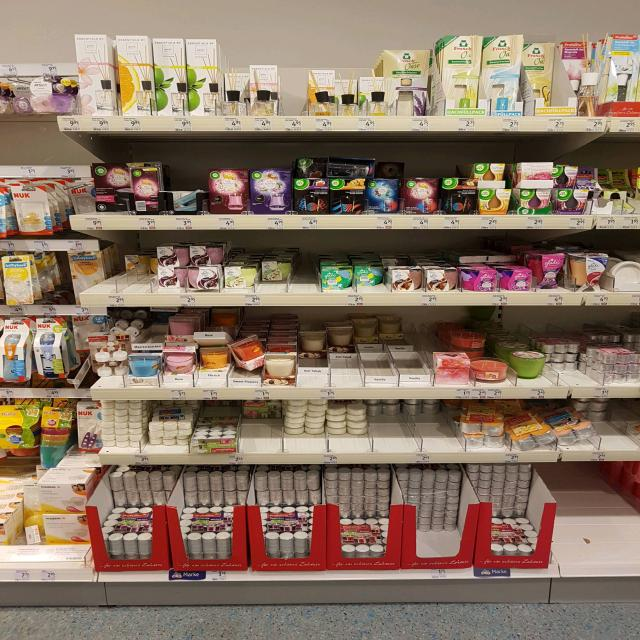empty: (555, 462, 631, 566), (271, 53, 312, 122), (289, 233, 327, 296)
